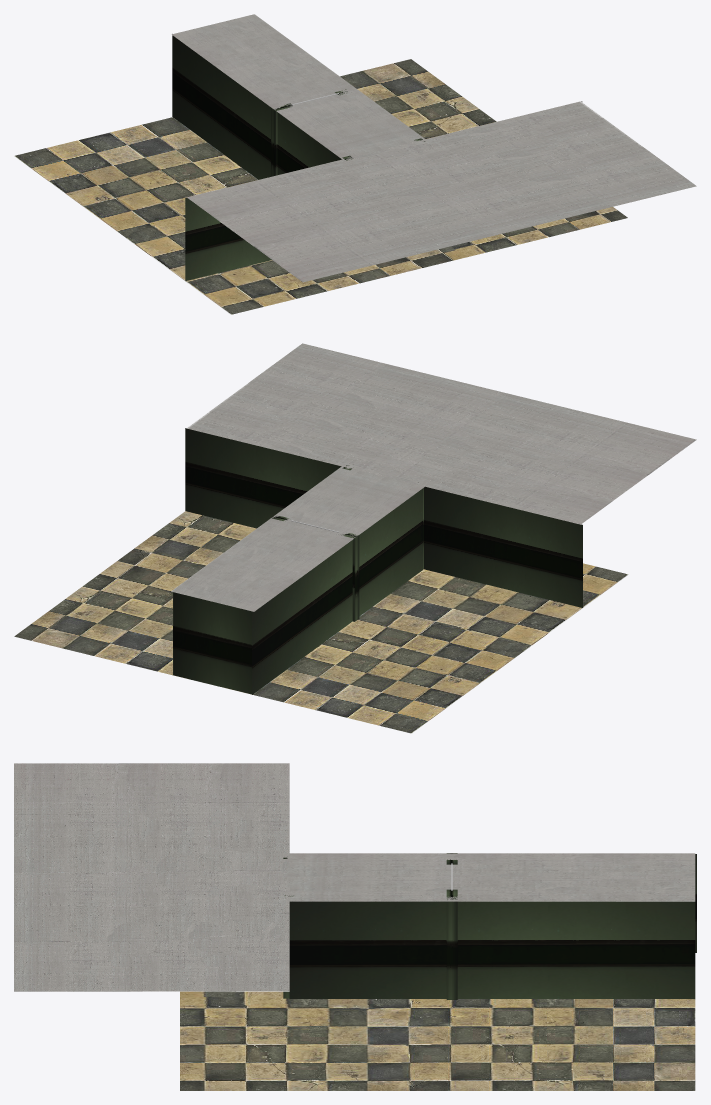
File: MainMenu.obj
The picture shows the model from 3 angles, top to bottom: view 1: azimuth 30°, elevation 25°; view 2: azimuth 150°, elevation 25°; view 3: azimuth 270°, elevation 25°; orthographic projection. The views are drawn at different scales.
Parts seen in each view (by area): view 1: Plane(7), Plane(3), Plane(6), Plane(1), Plane(4), Cube(2); view 2: Plane(7), Plane(3), Plane(6), Plane(1), Plane(4), Plane(5), Plane(2), Cube(2); view 3: Plane(7), Plane(3), Plane(0), Plane(6), Cube(3).
Part boxes in pixels (x1,y1,x2,y2): Plane(7): (187, 101, 696, 282); Plane(3): (14, 59, 627, 314); Plane(6): (171, 14, 424, 159); Plane(1): (172, 35, 341, 179); Plane(4): (185, 198, 271, 280); Cube(2): (271, 103, 292, 176); Plane(7): (186, 343, 696, 524); Plane(3): (14, 511, 628, 733); Plane(6): (171, 466, 425, 611); Plane(1): (252, 488, 422, 694); Plane(4): (424, 486, 582, 607); Plane(5): (185, 428, 341, 528); Plane(2): (173, 592, 252, 694); Cube(2): (341, 533, 359, 621); Plane(7): (14, 763, 289, 991); Plane(3): (180, 991, 695, 1090); Plane(0): (289, 901, 695, 998); Plane(6): (287, 853, 695, 901); Cube(3): (446, 889, 457, 999).
Size of the model in its own units: 50 by 10.18 by 62.72.
